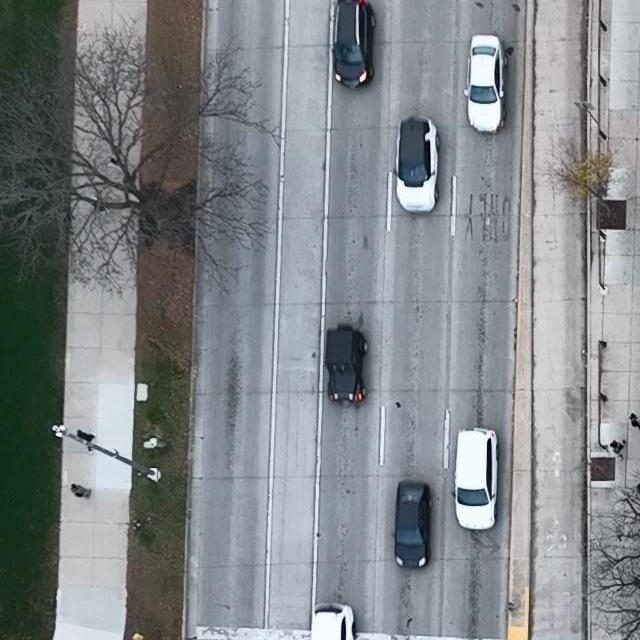car: (451, 428, 500, 531), (392, 116, 440, 214), (463, 34, 509, 135), (329, 0, 377, 87), (390, 480, 434, 569), (324, 323, 369, 405), (310, 602, 356, 640)
